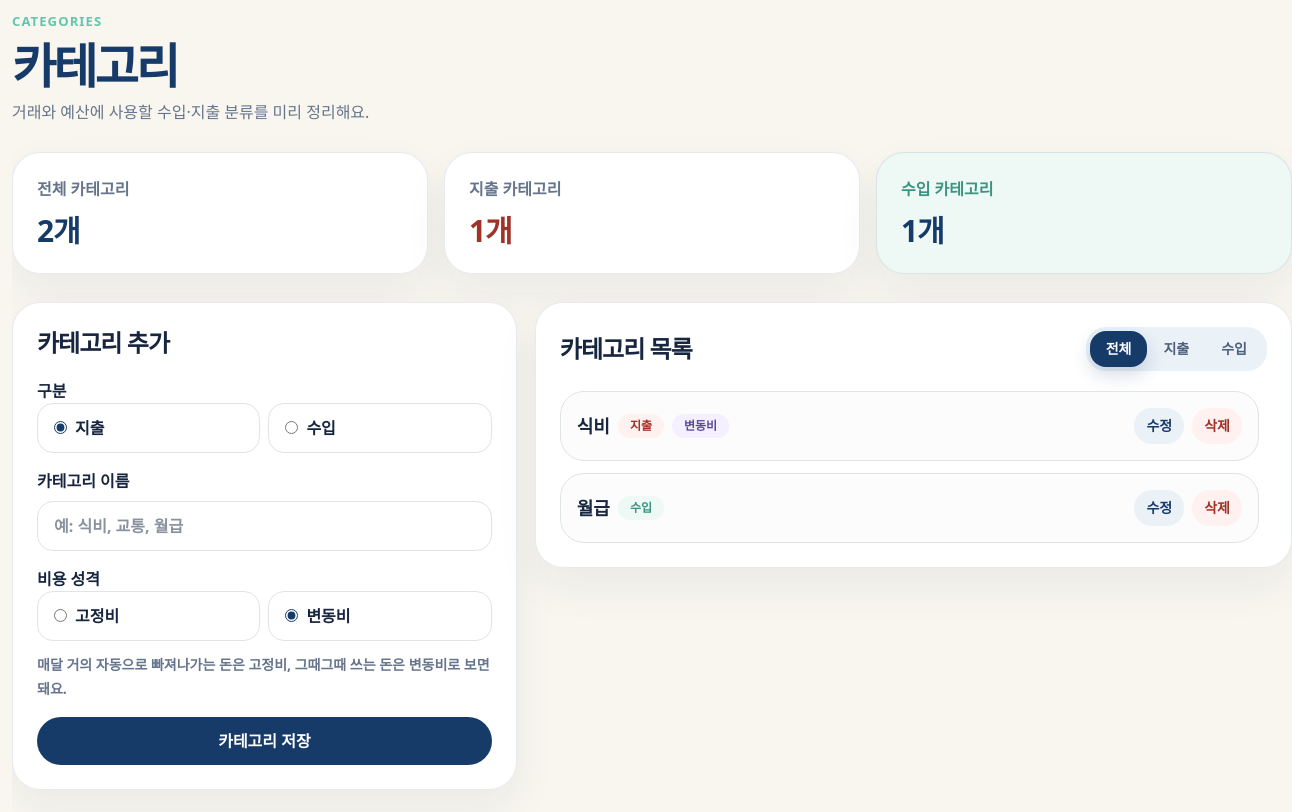
CategoriesPage › deletes a category after confirmation
Expected: the text "식비" is shown, [577, 412, 610, 440]
Click the button with aria-label "식비 삭제" at (1217, 426), box [1192, 408, 1242, 444]
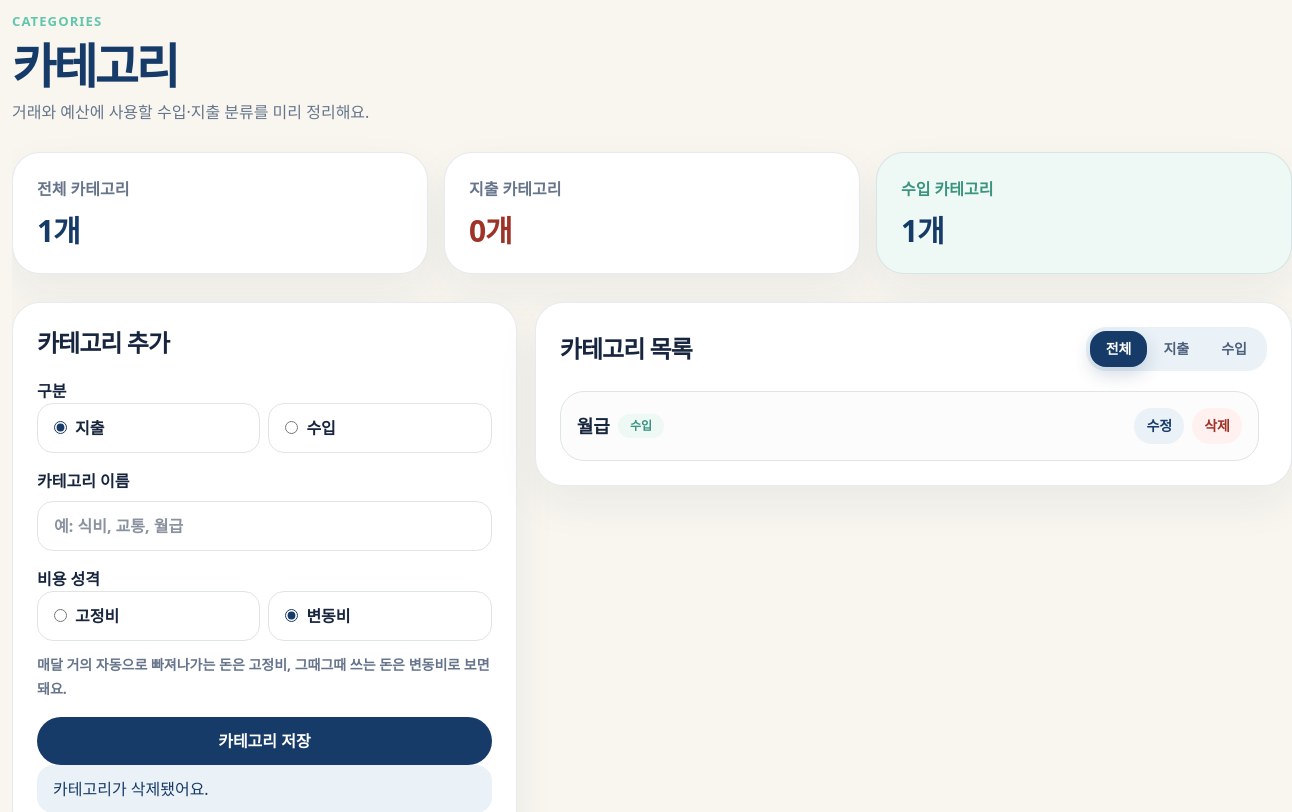
Expected: the text "월급" is shown, [577, 412, 610, 440]
Expected: the message reads "카테고리가 삭제됐어요.", [53, 778, 209, 800]
